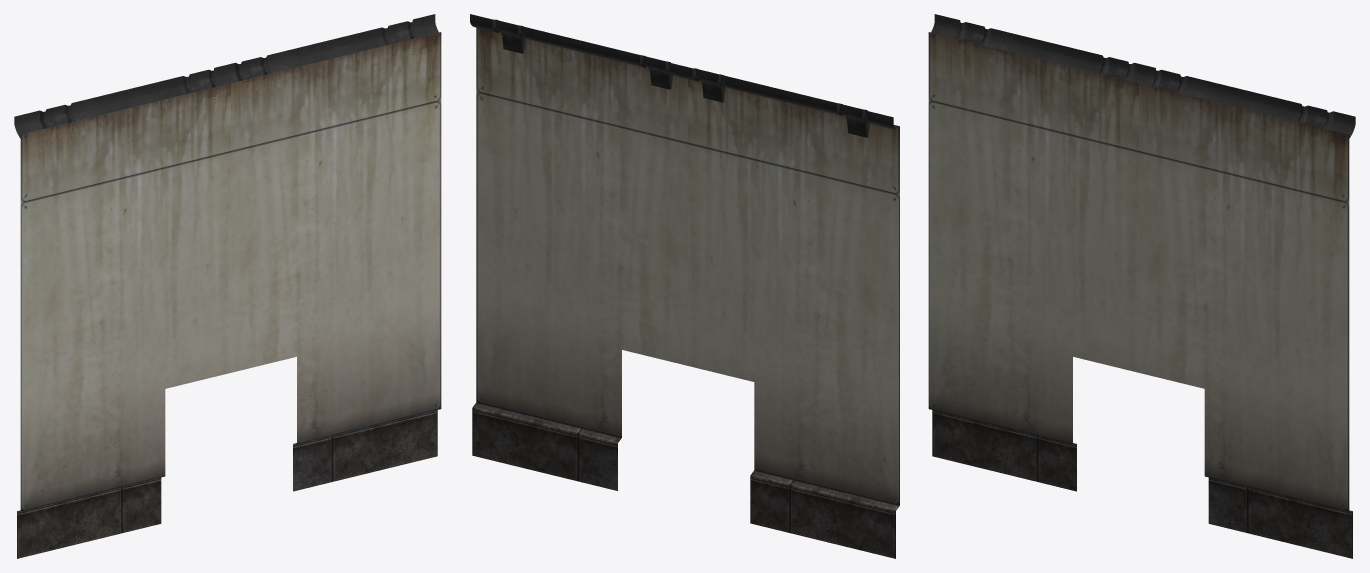
The model's file is lab_flat_vent_floor.dae.
3 views of the same model, side by side, from view 1: azimuth 30°, elevation 25°; view 2: azimuth 150°, elevation 25°; view 3: azimuth 330°, elevation 25° (orthographic).
Visible parts, largest first — view 1: Mesh; view 2: Mesh; view 3: Mesh.
Part boxes in pixels (x1,y1,x2,y2): Mesh: (14,14,441,558); Mesh: (470,14,899,558); Mesh: (928,14,1355,558).
Bounding box in the file's own units: 4 × 4 × 0.1056.
